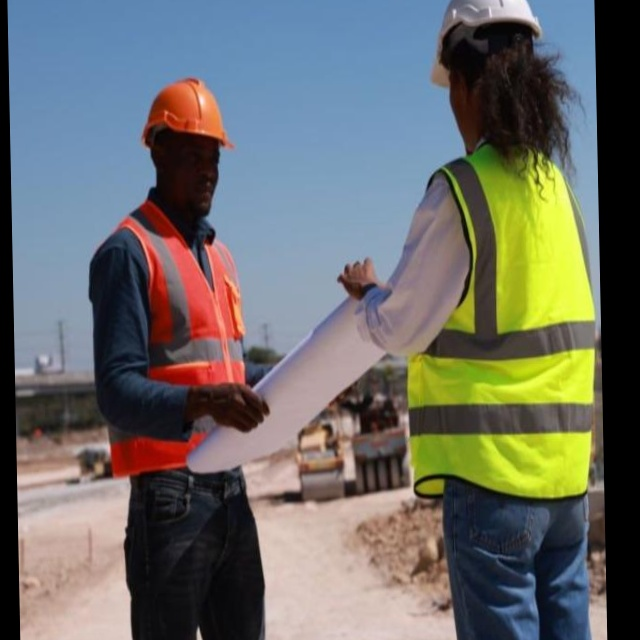Con_Chaleco: (398, 145, 599, 503), (91, 205, 244, 484)
